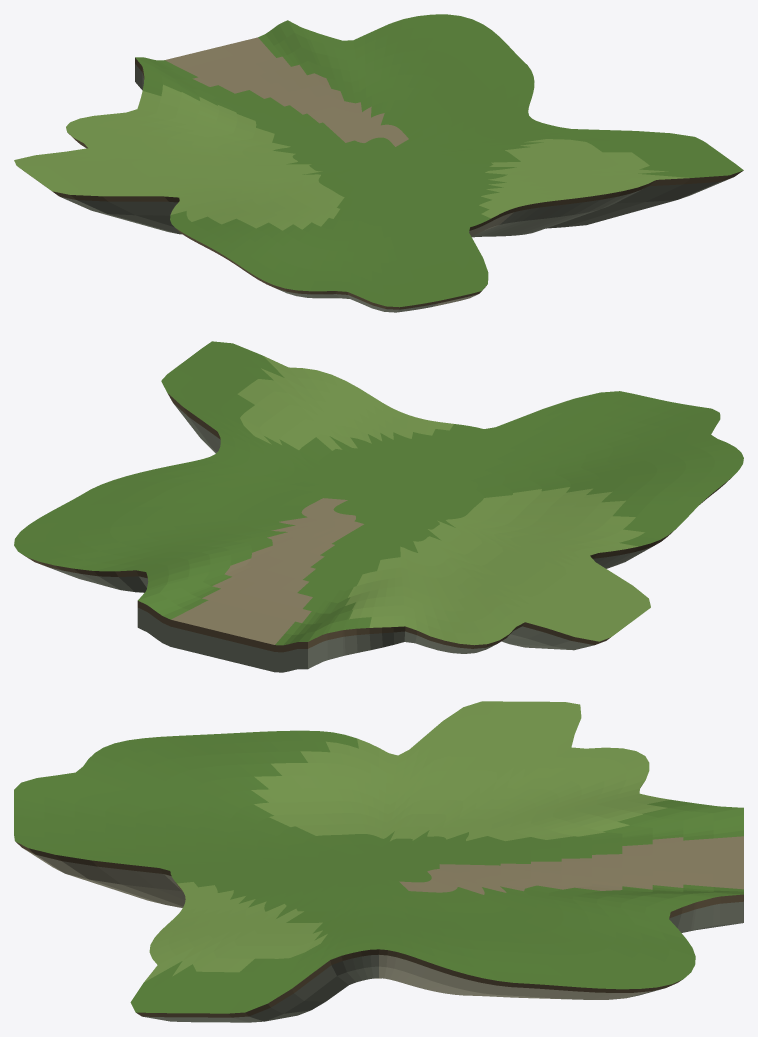
Rendered from entry_woodland_refuge_structure.fbx.
3 renders of one model, top to bottom at view 1: azimuth 30°, elevation 25°; view 2: azimuth 150°, elevation 25°; view 3: azimuth 270°, elevation 25°, orthographic. The views are drawn at different scales.
Parts seen in each view (by area): view 1: chunk_entry_woodland_refuge; view 2: chunk_entry_woodland_refuge; view 3: chunk_entry_woodland_refuge.
Boxes of the visible parts, x1,y1,x2,y2 form: chunk_entry_woodland_refuge: (14, 14, 743, 312); chunk_entry_woodland_refuge: (14, 341, 743, 672); chunk_entry_woodland_refuge: (14, 701, 743, 1022).
Size of the model in its own units: 256 by 42.4 by 256.
